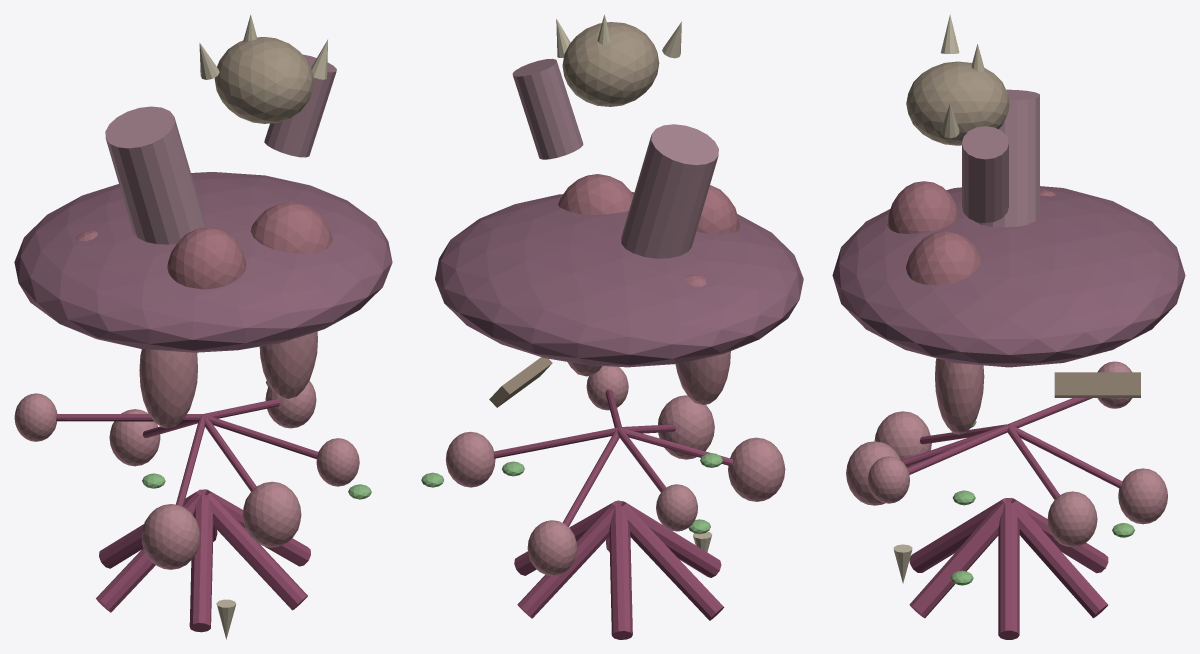
Rendered from zglengo_earth_tentacle.glb.
The picture shows the model from 3 angles, left to right: view 1: azimuth 30°, elevation 25°; view 2: azimuth 150°, elevation 25°; view 3: azimuth 270°, elevation 25°; orthographic projection. The views are drawn at different scales.
Visible parts, largest first — view 1: root_mound, tentacle_stem, maw, maw_bubo_0, breathe_sac_2, breathe_sac_3, bubo_5, bubo_2, root_1, neck, maw_bubo_1, root_2 (+12 smaller); view 2: root_mound, tentacle_stem, maw, neck, bubo_2, root_4, root_3, bubo_5, breathe_sac_3, root_5, bubo_4, bubo_1 (+11 smaller); view 3: root_mound, maw, tentacle_stem, neck, breathe_sac_3, maw_bubo_1, breathe_sac_2, root_0, root_5, root_1, root_6, bubo_1 (+13 smaller).
Boxes of the visible parts, bbox=[...] form: root_mound: bbox=[14, 172, 392, 352]; tentacle_stem: bbox=[105, 106, 205, 244]; maw: bbox=[214, 37, 313, 123]; maw_bubo_0: bbox=[139, 349, 197, 428]; breathe_sac_2: bbox=[167, 227, 246, 289]; breathe_sac_3: bbox=[250, 202, 332, 253]; bubo_5: bbox=[242, 481, 301, 547]; bubo_2: bbox=[141, 504, 200, 569]; root_1: bbox=[205, 493, 307, 610]; neck: bbox=[264, 54, 336, 157]; maw_bubo_1: bbox=[259, 331, 317, 398]; root_2: bbox=[189, 495, 213, 632]; root_mound: bbox=[435, 192, 803, 367]; tentacle_stem: bbox=[621, 124, 718, 258]; maw: bbox=[562, 22, 659, 106]; neck: bbox=[512, 58, 583, 159]; bubo_2: bbox=[728, 437, 785, 501]; root_4: bbox=[609, 506, 632, 639]; root_3: bbox=[622, 503, 724, 620]; bubo_5: bbox=[658, 395, 714, 459]; breathe_sac_3: bbox=[558, 174, 633, 214]; root_5: bbox=[517, 504, 615, 618]; bubo_4: bbox=[527, 520, 577, 575]; bubo_1: bbox=[445, 431, 495, 487]; root_mound: bbox=[832, 186, 1185, 367]; maw: bbox=[906, 61, 1009, 145]; tentacle_stem: bbox=[974, 89, 1039, 227]; neck: bbox=[962, 126, 1008, 223]; breathe_sac_3: bbox=[906, 231, 981, 285]; maw_bubo_1: bbox=[935, 358, 984, 434]; breathe_sac_2: bbox=[887, 181, 959, 233]; root_0: bbox=[998, 503, 1019, 639]; root_5: bbox=[1012, 501, 1107, 618]; root_1: bbox=[909, 500, 1004, 618]; root_6: bbox=[1054, 372, 1140, 397]; bubo_1: bbox=[1047, 491, 1097, 547].
Size of the model in its own units: 1.92 by 3.21 by 1.8.
